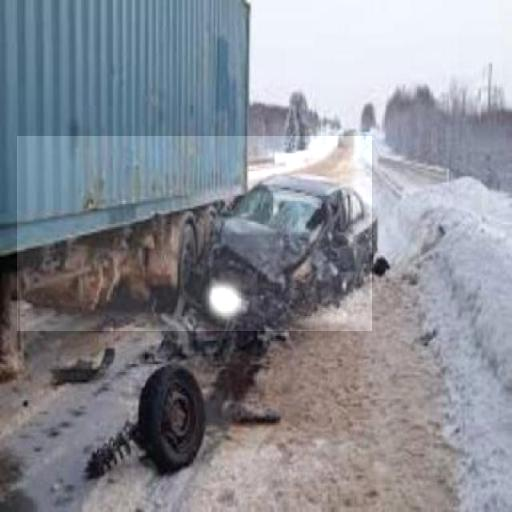小汽车撞小汽车: (17, 136, 372, 331)
